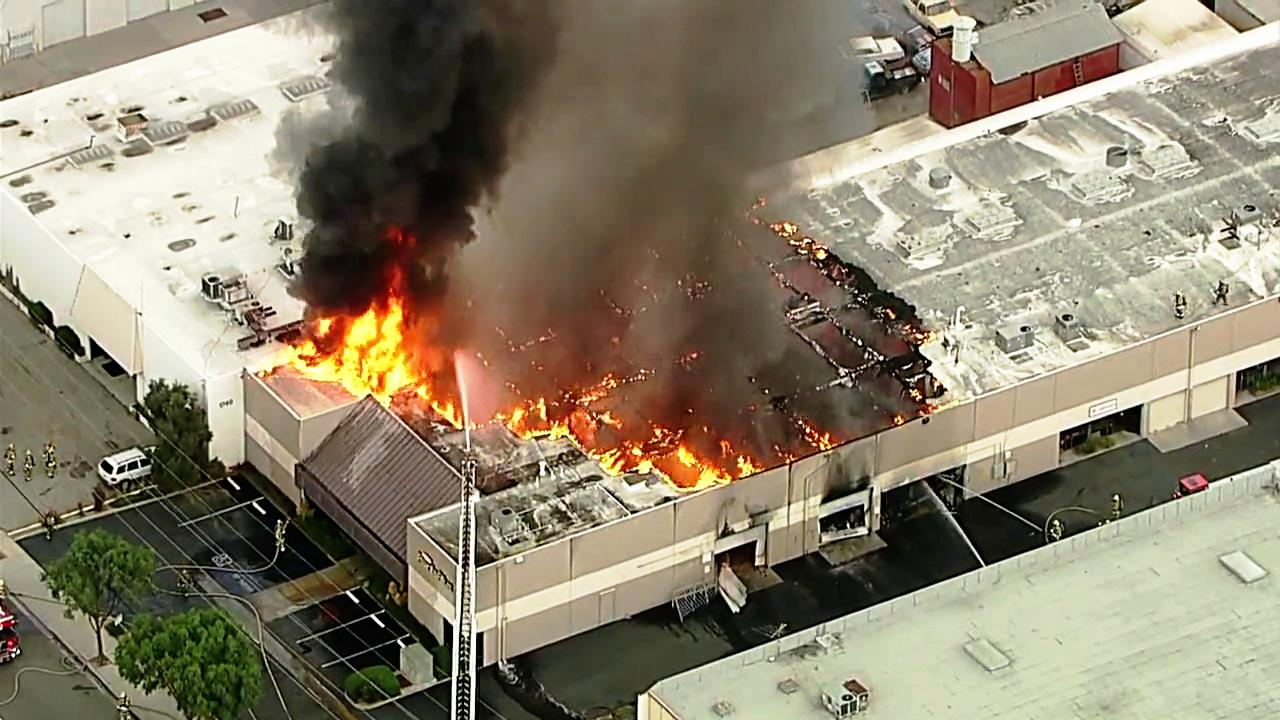fire: (274, 272, 420, 404)
smoke: (297, 0, 485, 282)
